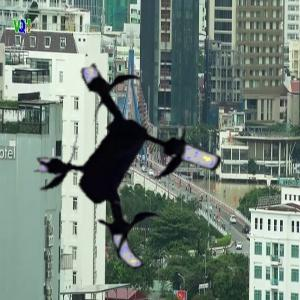drone: (27, 61, 240, 274)
